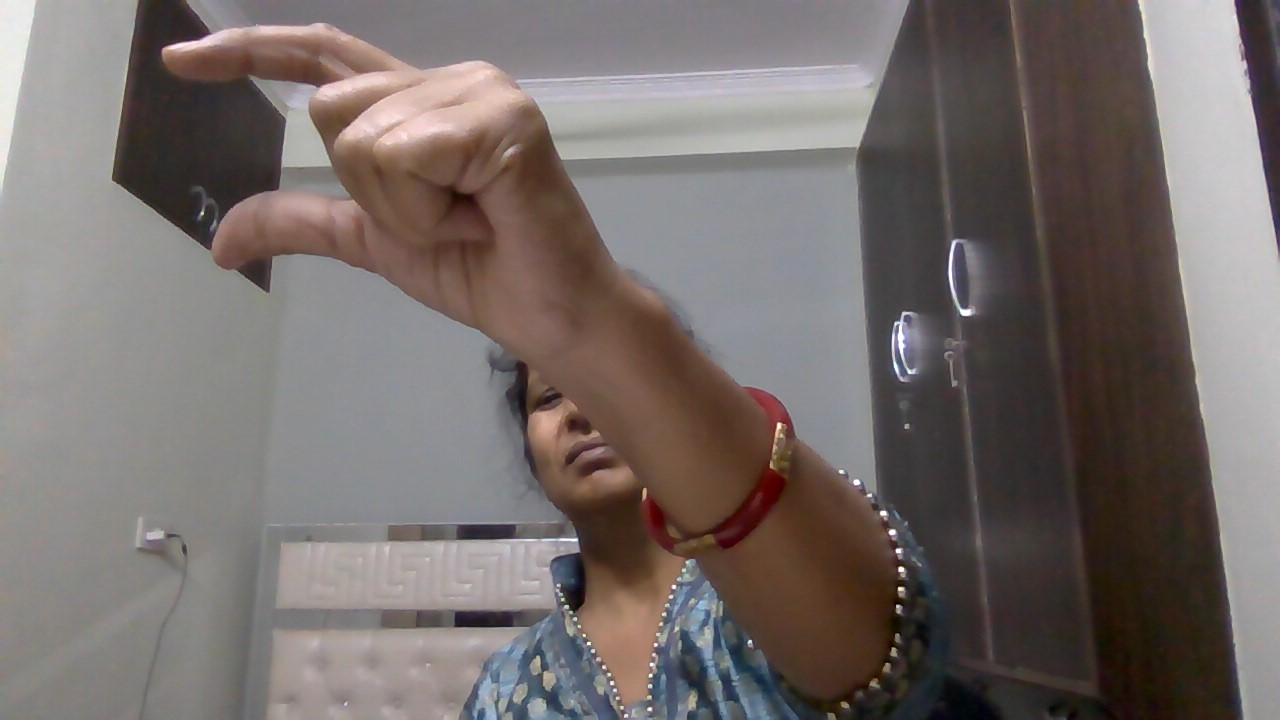Paste: (146, 13, 648, 372)
